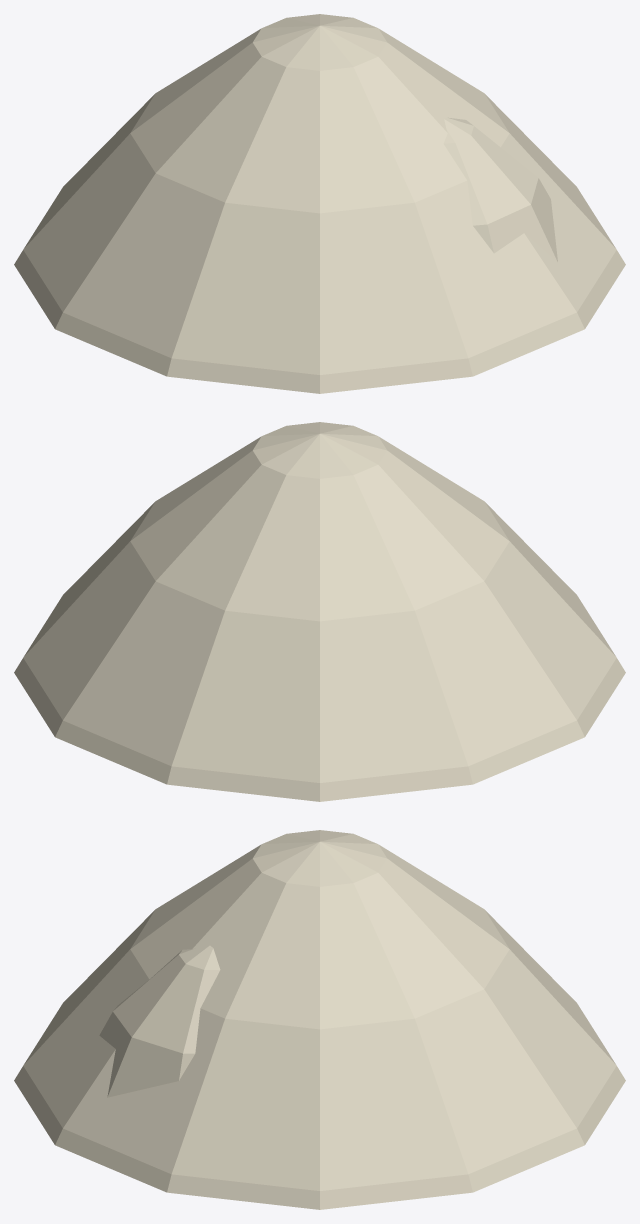
Rendered from pile_lime_a.glb.
3 views of the same model, one above another, from view 1: azimuth 30°, elevation 25°; view 2: azimuth 150°, elevation 25°; view 3: azimuth 270°, elevation 25° (orthographic).
Parts seen in each view (by area): view 1: pile_lime_a; view 2: pile_lime_a; view 3: pile_lime_a.
Boxes of the visible parts, x1,y1,x2,y2 form: pile_lime_a: (14, 14, 625, 393); pile_lime_a: (14, 422, 625, 801); pile_lime_a: (14, 830, 625, 1209).
Size of the model in its own units: 13 by 5.6 by 13.
